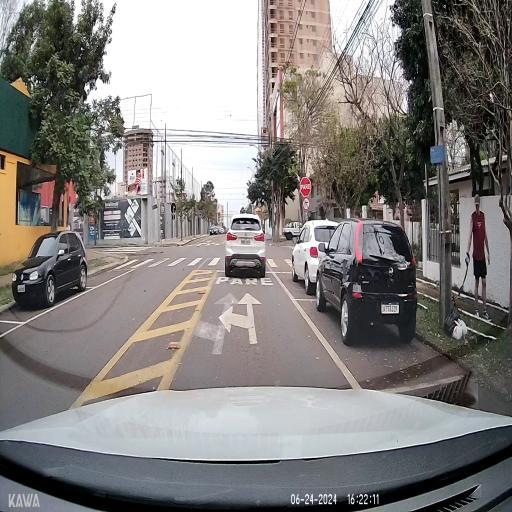R-1: (300, 176, 312, 197)
